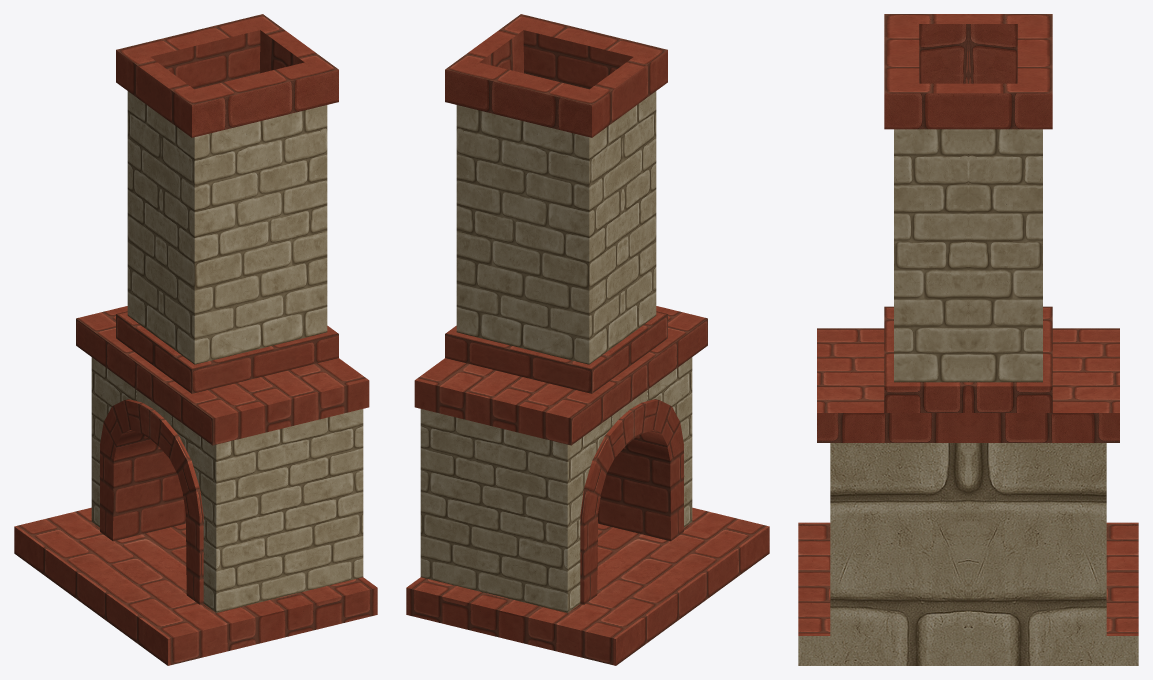
File: Fire_Place.fbx
3 views of the same model, side by side, from view 1: azimuth 30°, elevation 25°; view 2: azimuth 150°, elevation 25°; view 3: azimuth 270°, elevation 25° (orthographic). The views are drawn at different scales.
Parts seen in each view (by area): view 1: Fire_Place; view 2: Fire_Place; view 3: Fire_Place.
Boxes of the visible parts, <box> form: Fire_Place: <box>14,14,377,665</box>; Fire_Place: <box>406,14,769,665</box>; Fire_Place: <box>798,14,1138,665</box>.
Size of the model in its own units: 131 by 309 by 166.
